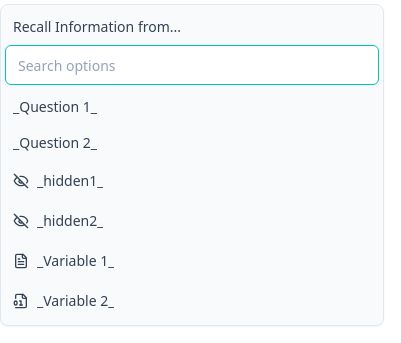
Test case: RecallItemSelect › shows 'No recall items found' when search has no results
Type "nonexistent" into the field with placeholder "Search options".
click(192, 65); type("nonexistent")  # box [5, 45, 379, 85]
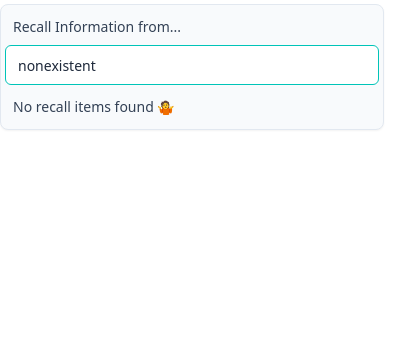
expect the text "No recall items found 🤷" is shown: met, box [13, 97, 174, 116]
